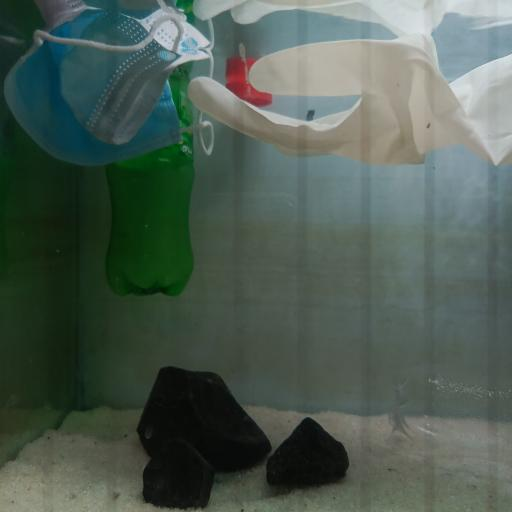bottle_cap: (225, 80, 273, 105)
glove: (186, 33, 511, 170)
mask: (3, 14, 215, 165)
plastic_bottle: (105, 84, 195, 302), (390, 369, 512, 457)
